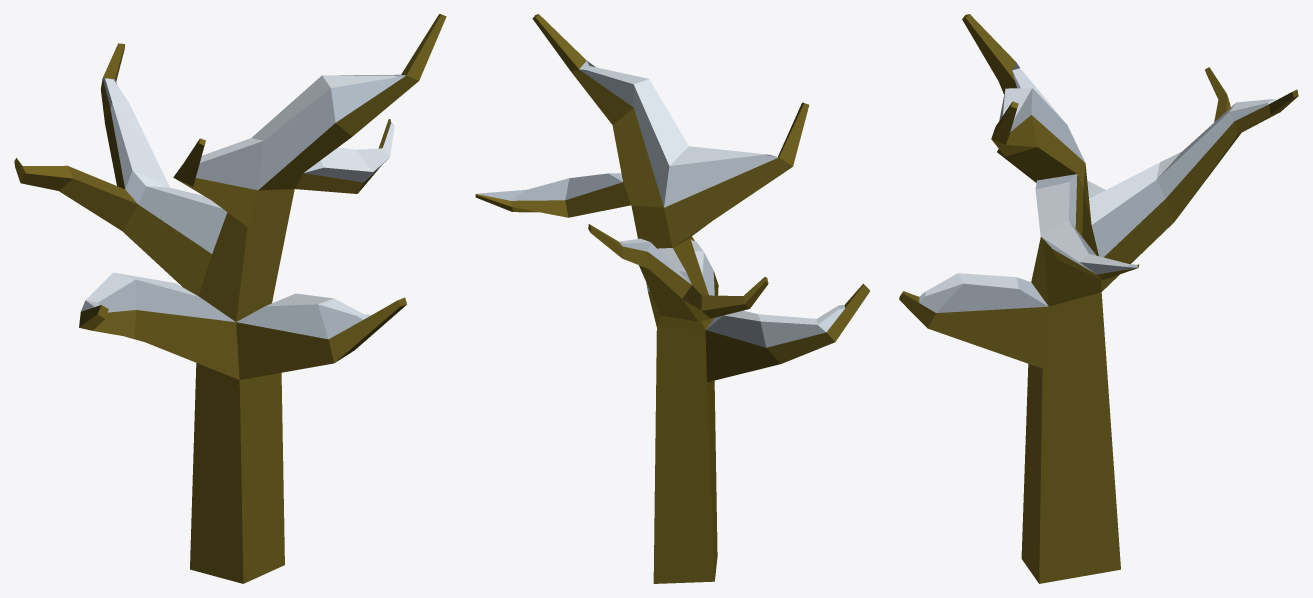
The model's file is TreeWinter2.fbx.
3 renders of one model, left to right at view 1: azimuth 30°, elevation 25°; view 2: azimuth 150°, elevation 25°; view 3: azimuth 270°, elevation 25°, orthographic. The views are drawn at different scales.
Visible parts, largest first — view 1: TreeWinter2; view 2: TreeWinter2; view 3: TreeWinter2.
Boxes of the visible parts, x1,y1,x2,y2 form: TreeWinter2: (14,14,446,583); TreeWinter2: (475,14,869,583); TreeWinter2: (899,14,1298,583).
Bounding box in the file's own units: 1.31 × 1.84 × 1.19.
